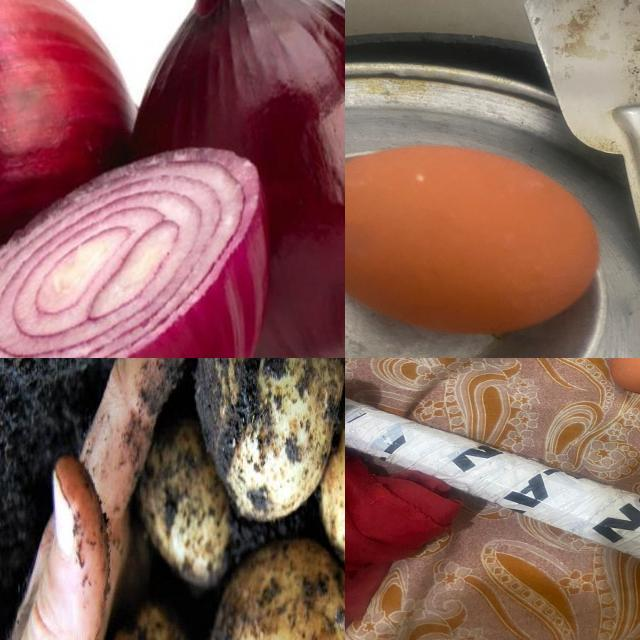egg: (346, 139, 609, 337)
onion: (134, 1, 346, 359), (1, 141, 272, 359), (1, 1, 141, 351)
potato: (200, 359, 340, 520), (140, 432, 237, 590), (193, 542, 346, 640), (317, 395, 346, 589)
